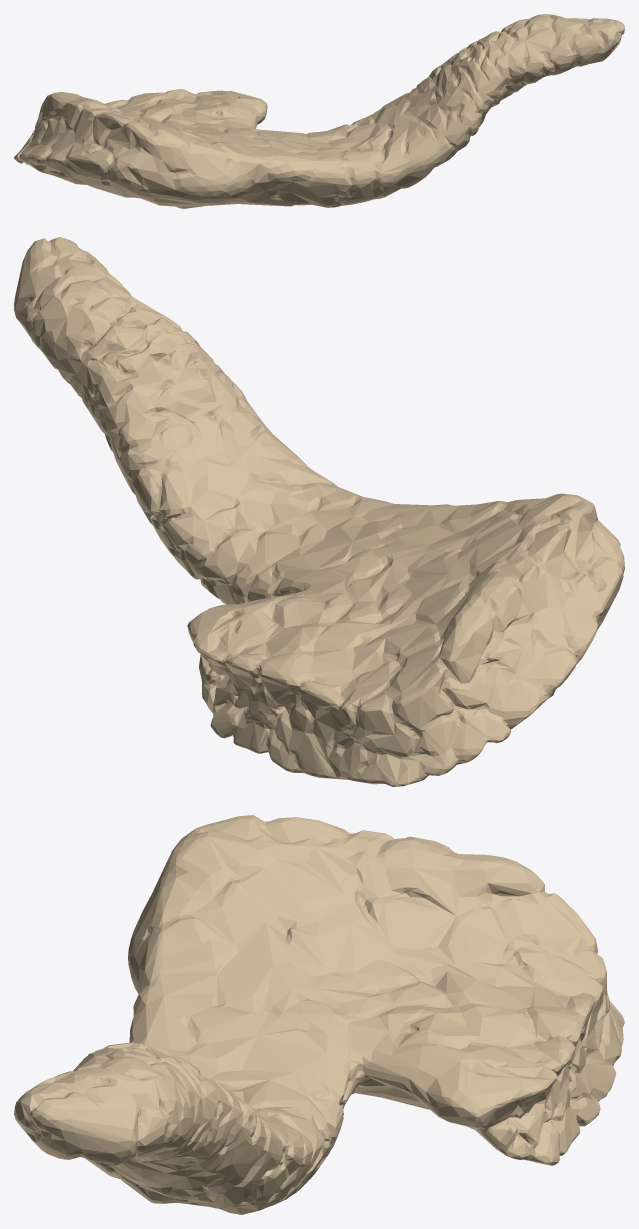
File: pancreas.glb
3 views of the same model, one above another, from view 1: azimuth 30°, elevation 25°; view 2: azimuth 150°, elevation 25°; view 3: azimuth 270°, elevation 25° (orthographic). The views are drawn at different scales.
Parts seen in each view (by area): view 1: FMA7198nsn.stl; view 2: FMA7198nsn.stl; view 3: FMA7198nsn.stl.
Part boxes in pixels (x1=…): FMA7198nsn.stl: x1=14, y1=14, x2=624, y2=208; FMA7198nsn.stl: x1=14, y1=237, x2=624, y2=786; FMA7198nsn.stl: x1=14, y1=815, x2=624, y2=1214.
Size of the model in its own units: 2 by 0.6926 by 1.28.
